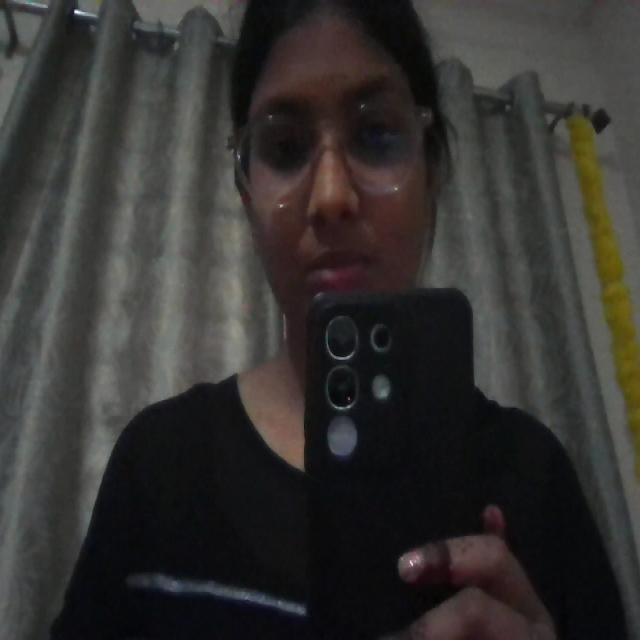phone: (304, 288, 488, 639)
